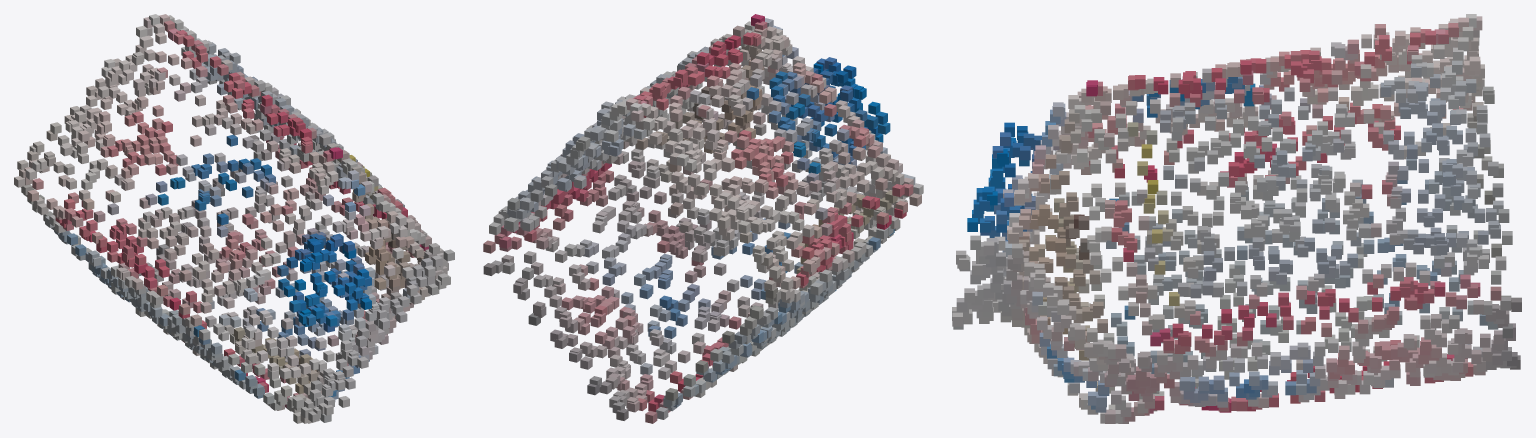
File: milk.glb
3 views of the same model, side by side, from view 1: azimuth 30°, elevation 25°; view 2: azimuth 150°, elevation 25°; view 3: azimuth 270°, elevation 25° (orthographic). The views are drawn at different scales.
Visible parts, largest first — view 1: world; view 2: world; view 3: world.
Part boxes in pixels (bbox=[...]): world: bbox=[14, 14, 454, 423]; world: bbox=[483, 14, 923, 423]; world: bbox=[952, 14, 1521, 423].
Size of the model in its own units: 0.1247 by 0.1236 by 0.1608.
